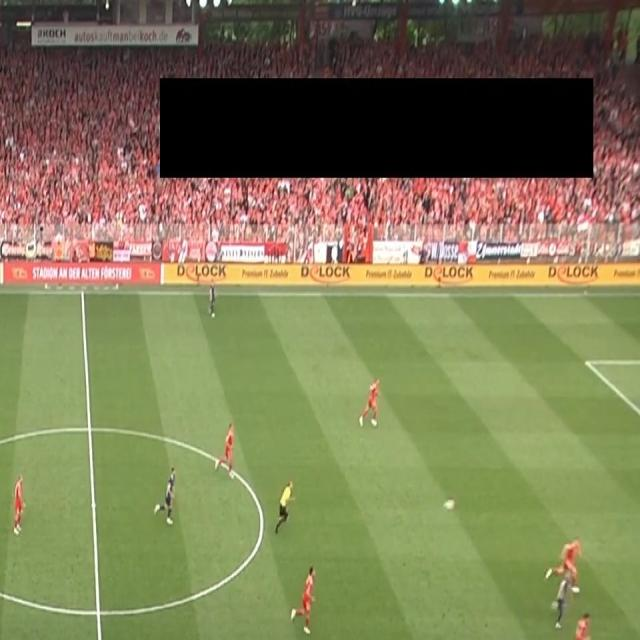ball: (442, 497, 456, 515)
